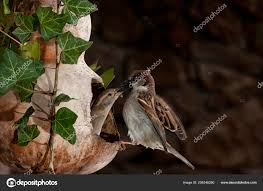hsparrow: (118, 68, 205, 179)
